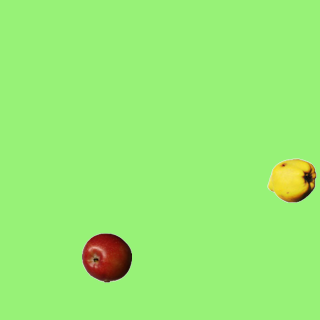Apple Braeburn: (81, 232, 131, 282)
Quince: (266, 155, 316, 205)
